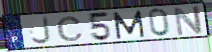0: (147, 7, 172, 39)
5: (86, 11, 113, 42)
C: (56, 15, 85, 42)
J: (30, 15, 53, 46)
M: (112, 9, 147, 41)
N: (173, 5, 205, 37)
